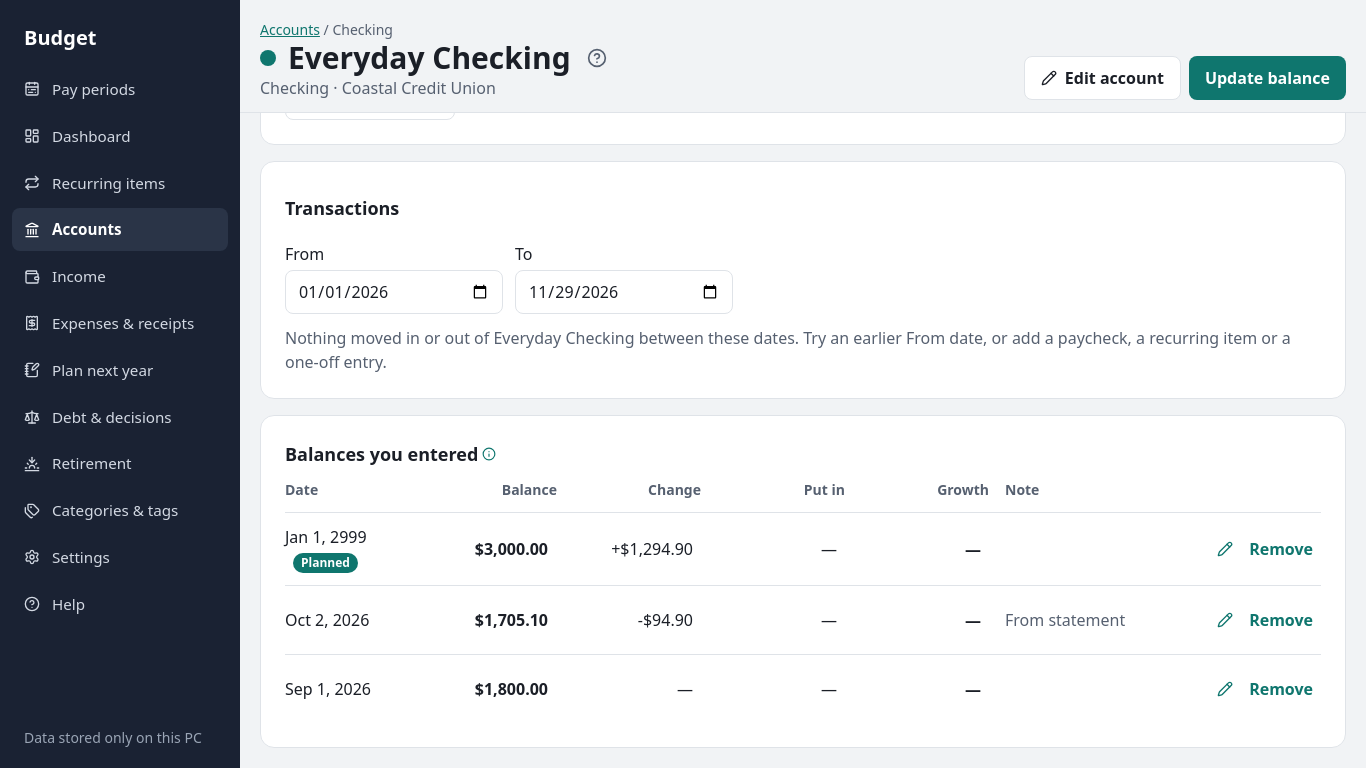
account detail screen › marks a balance for a day still to come as planned, and lets one be entered
(page scrolled)
Expected: the list item "Oct 2, 2026 $1,705.10 -$94.90 — — From statement Remove" does not show "Planned", [285,586,1321,655]
# The date can be any day: one still to come is planned.
Click the button named "Edit the balance from Jan 1, 2999".
click(1225, 549)  # box [1213,537,1237,561]
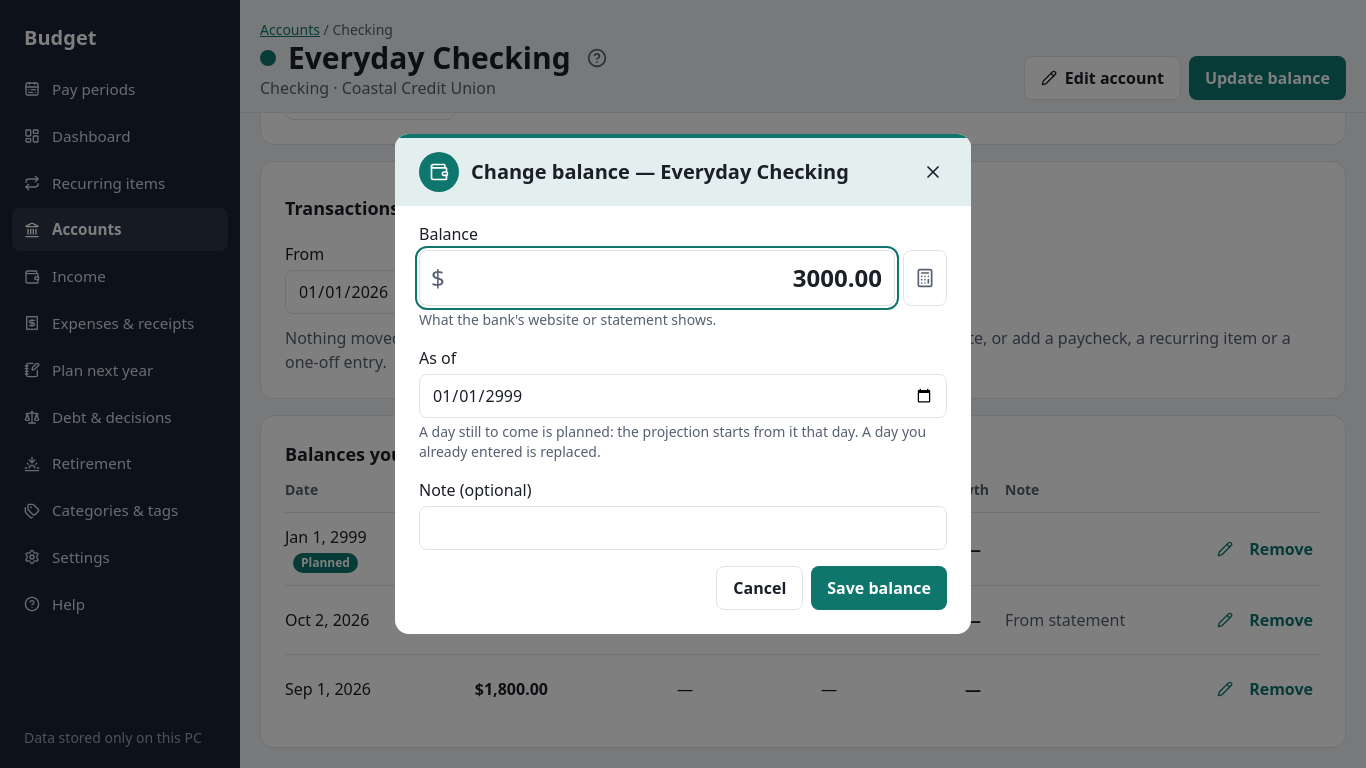
Now the dialog shows "A day still to come is planned", box [419,422,926,461]
